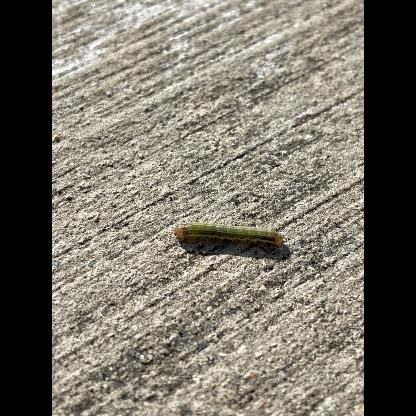Fall Armyworm Larvae: (172, 220, 286, 250)
